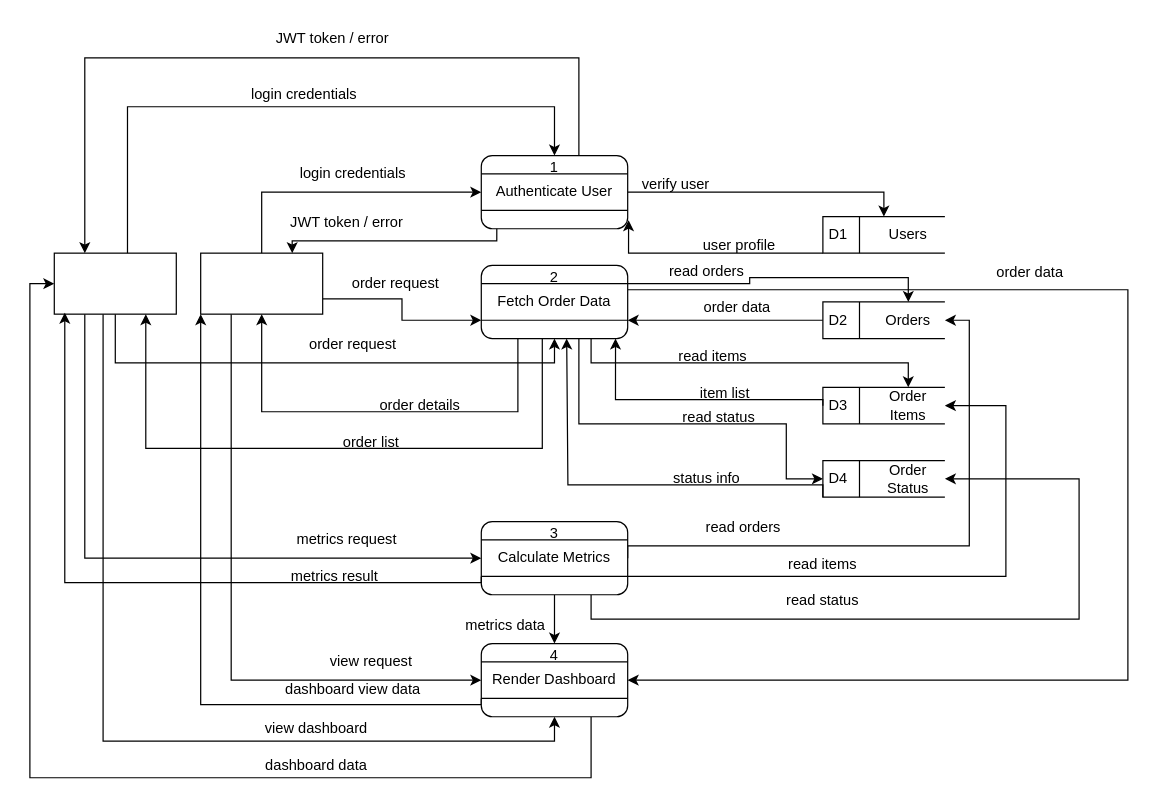
Some shapes in this 1159 by 809 pixel diagram are drawn without their labels. Each missing label, with the centre of its shape:
"Admin/Cashier" belongs at point (114, 283).
"Customer" belongs at point (261, 283).
